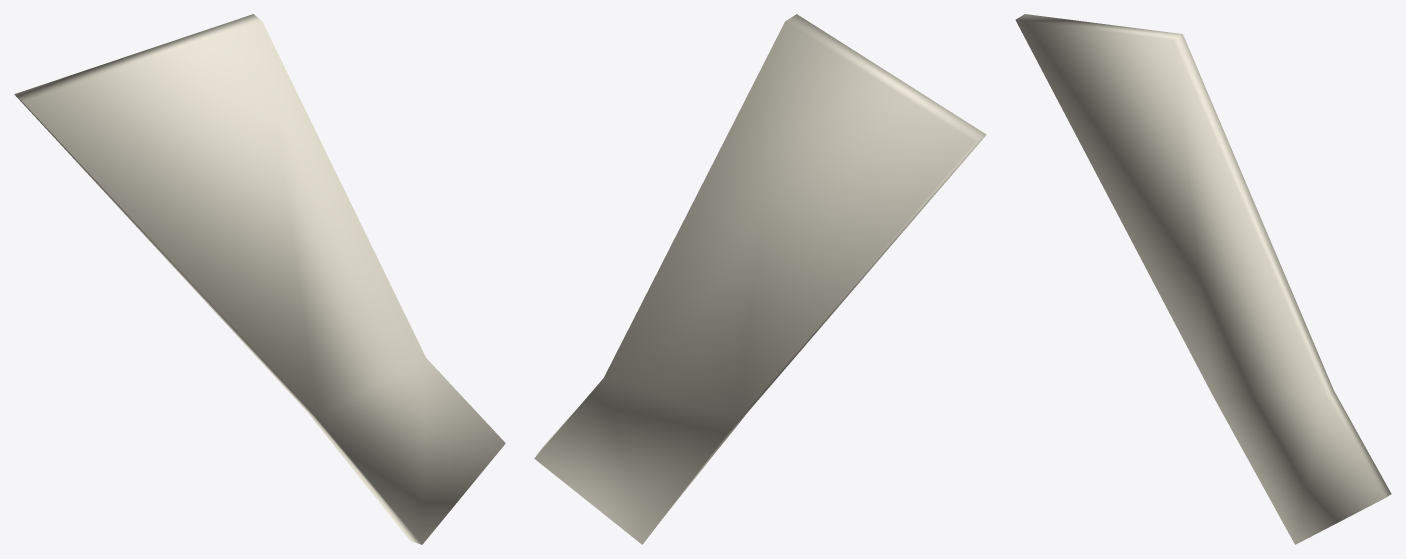
3 views of the same model, side by side, from view 1: azimuth 30°, elevation 25°; view 2: azimuth 150°, elevation 25°; view 3: azimuth 330°, elevation 25° (orthographic). The views are drawn at different scales.
Parts seen in each view (by area): view 1: ZA_1804e21458263ea1; view 2: ZA_1804e21458263ea1; view 3: ZA_1804e21458263ea1.
Boxes of the visible parts, x1,y1,x2,y2 form: ZA_1804e21458263ea1: (14,14,505,544); ZA_1804e21458263ea1: (534,14,986,544); ZA_1804e21458263ea1: (1015,14,1391,544).
Size of the model in its own units: 0.0131 by 0.0152 by 0.00218.
